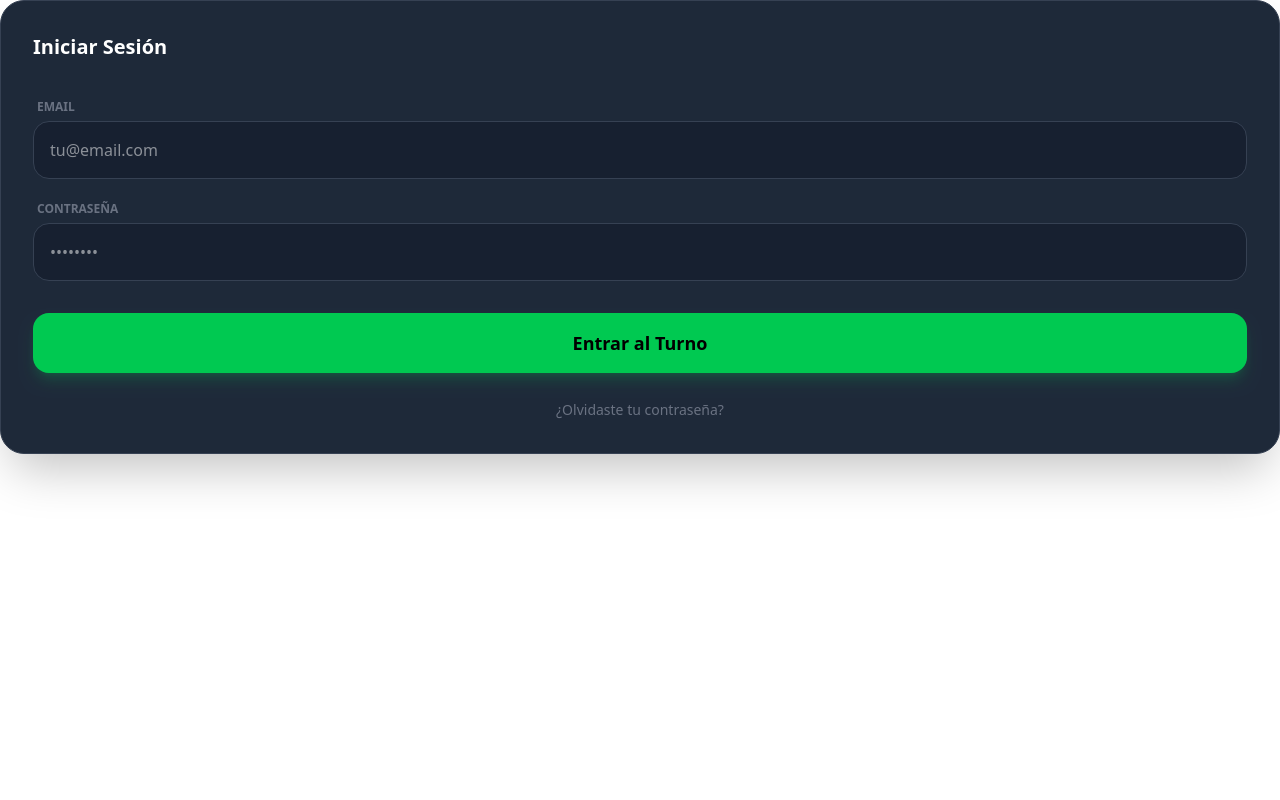
Formulario de login › permite volver a intentar el login después de un error
In the field with placeholder "tu@email.com": (640, 150) left=33, top=121, right=1247, bottom=179, type "prueba@example.com"
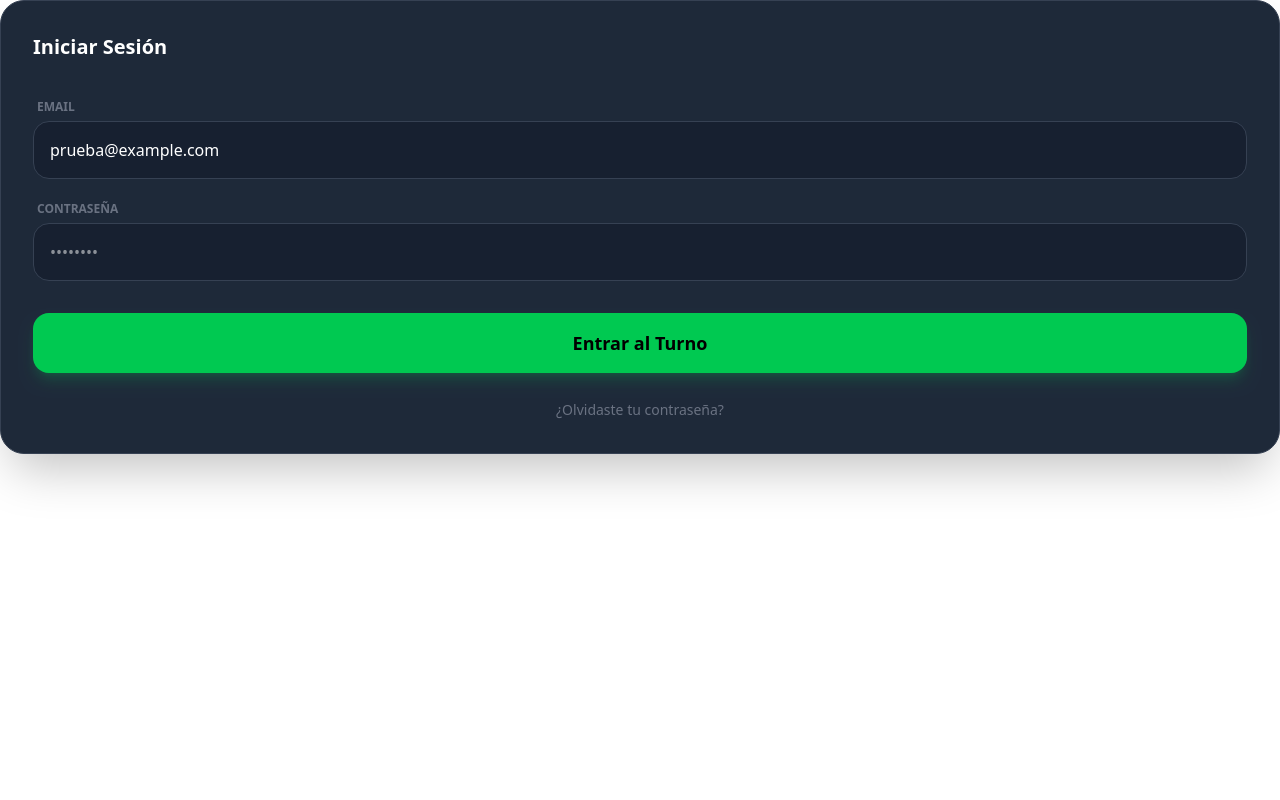
In the password field with placeholder "••••••••": (640, 252) left=33, top=223, right=1247, bottom=281, type "contraseña-de-prueba"
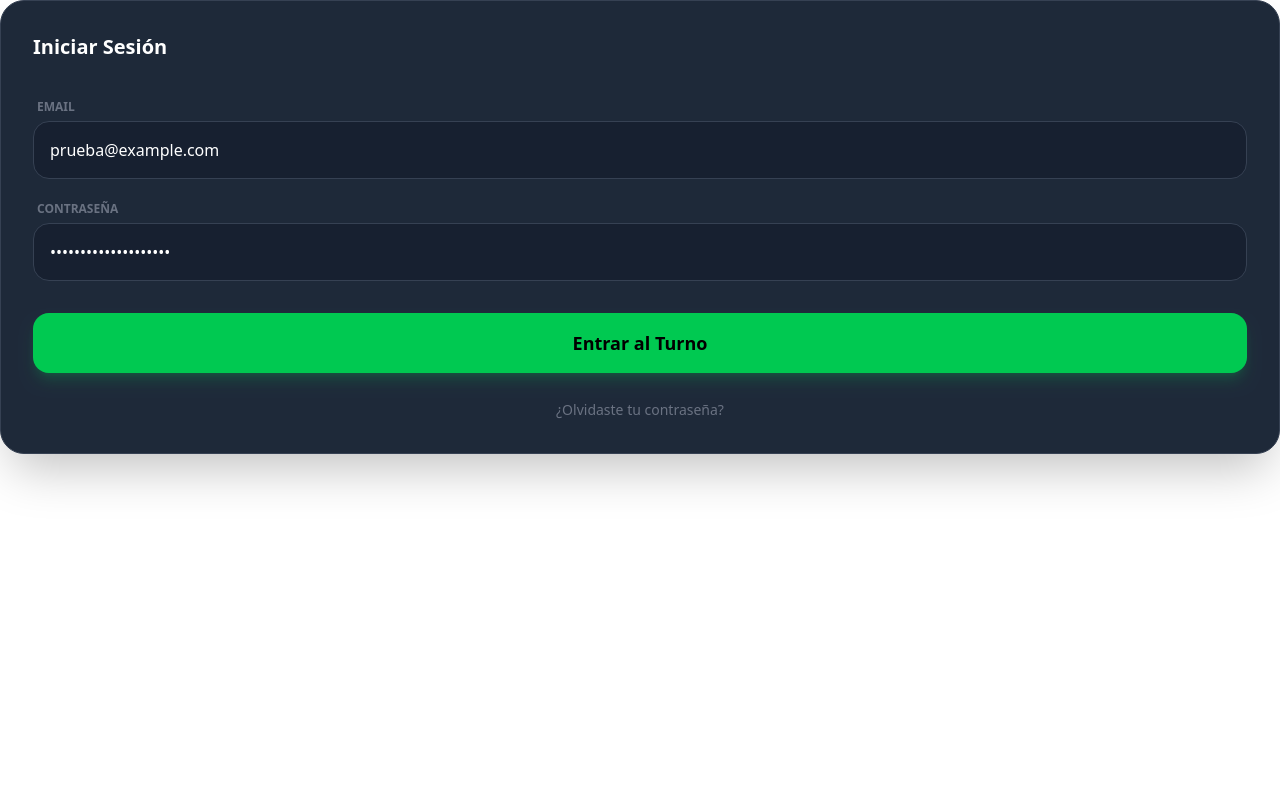
Note: El primer intento recibe un error.
Click the button "Entrar al Turno": (640, 343) left=33, top=313, right=1247, bottom=373
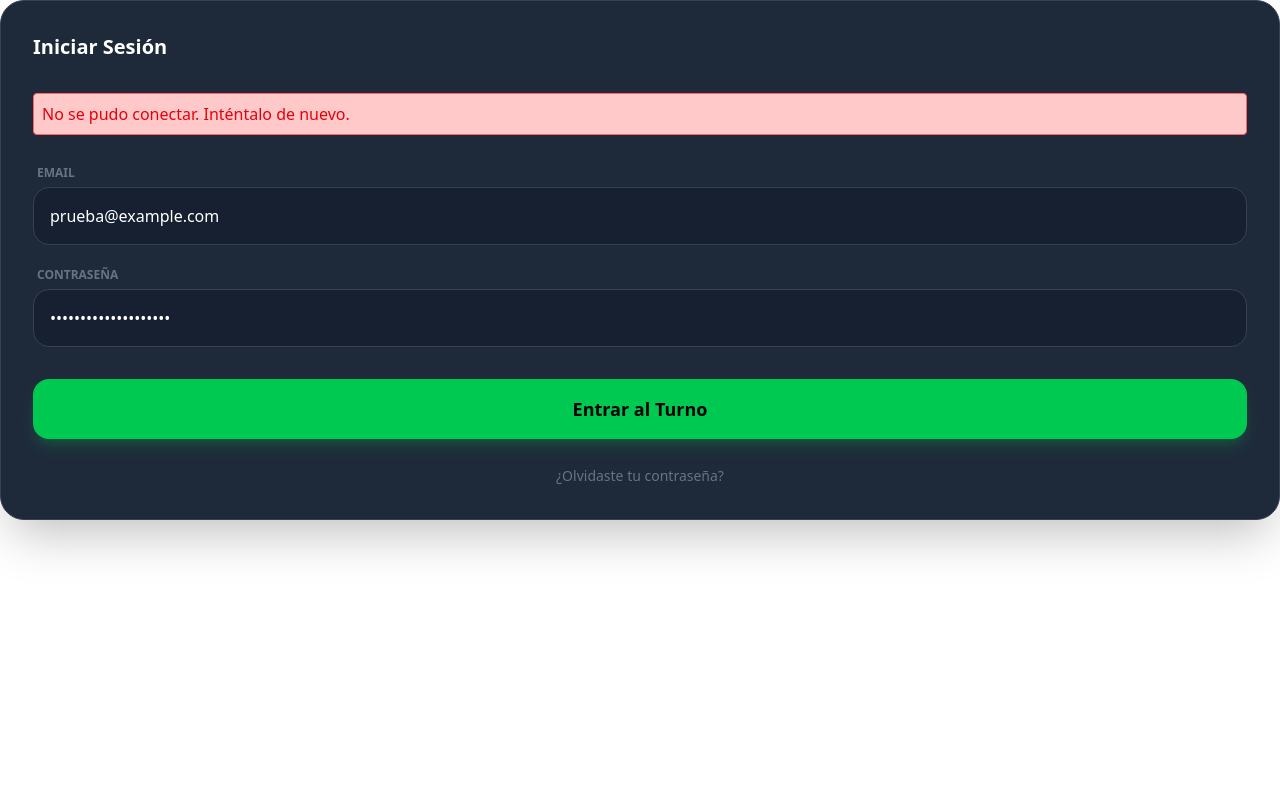
Expected: the text "No se pudo conectar. Inténtalo de nuevo." is shown, left=42, top=103, right=350, bottom=125
Note: El segundo intento recibe una respuesta correcta.
Click the button "Entrar al Turno": (640, 409) left=33, top=379, right=1247, bottom=439
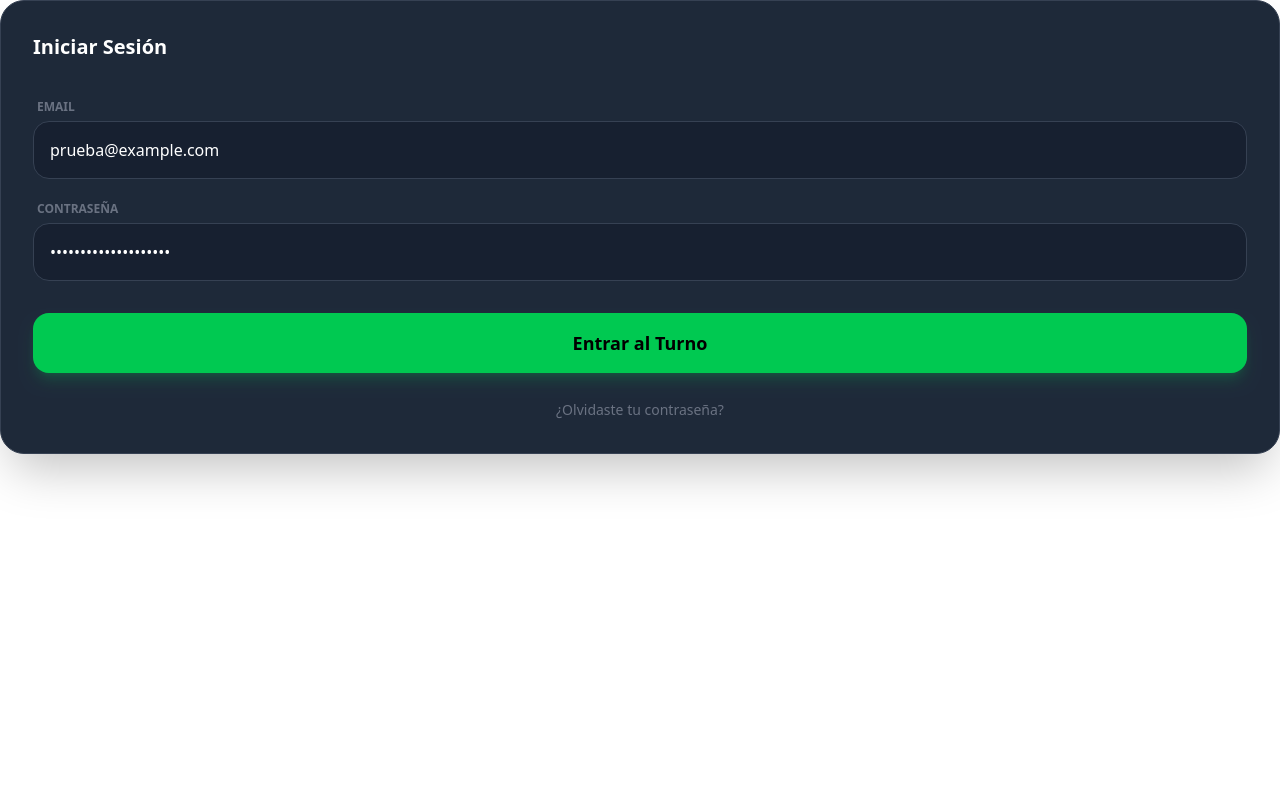
Expected: the text "No se pudo conectar. Inténtalo de nuevo." is gone
